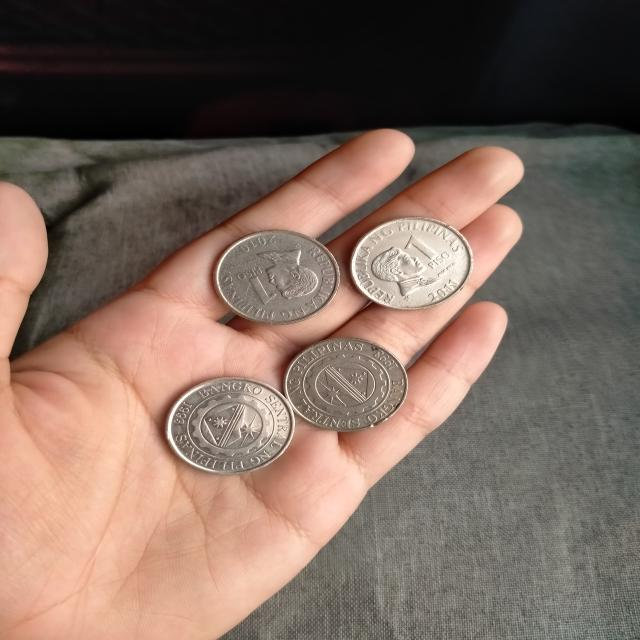1_Old_Back: (297, 347, 389, 420)
